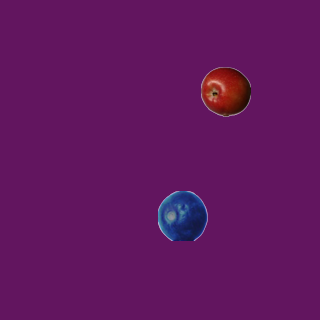Apple Braeburn: (200, 66, 250, 116)
Huckleberry: (157, 190, 207, 240)
